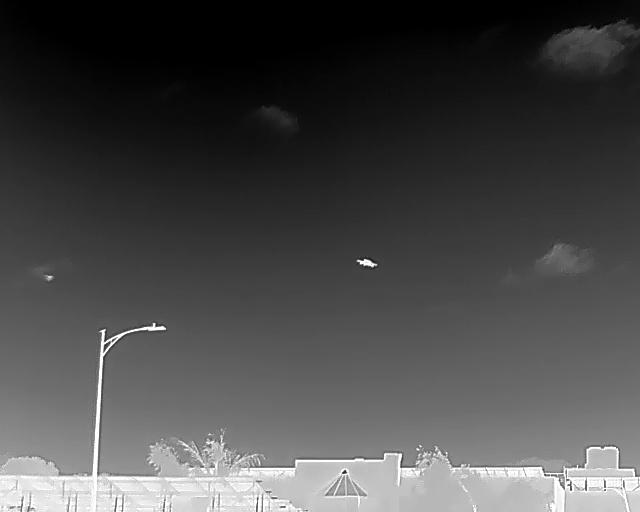fpv-drone: (356, 258, 377, 267)
